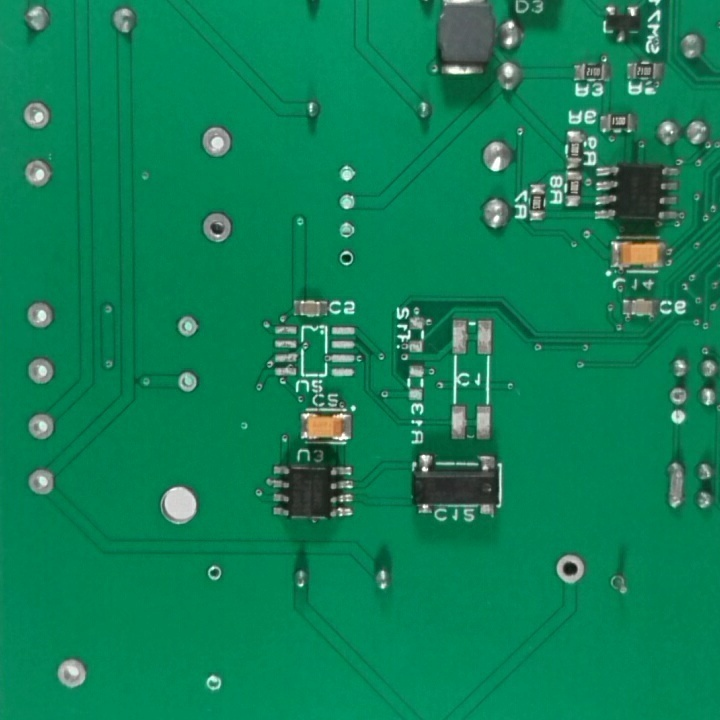F: (51, 657, 93, 692), (197, 210, 236, 246), (198, 123, 230, 163), (19, 101, 53, 135), (18, 158, 54, 190), (21, 300, 57, 331), (24, 469, 60, 499), (555, 552, 584, 588), (24, 358, 56, 389), (24, 413, 58, 442), (175, 369, 204, 395), (173, 315, 200, 340), (607, 572, 630, 599), (667, 384, 692, 408), (334, 192, 359, 214), (204, 672, 225, 697), (336, 163, 357, 187), (204, 563, 226, 584), (337, 251, 357, 271), (336, 221, 357, 240)
P: (664, 458, 689, 514)
